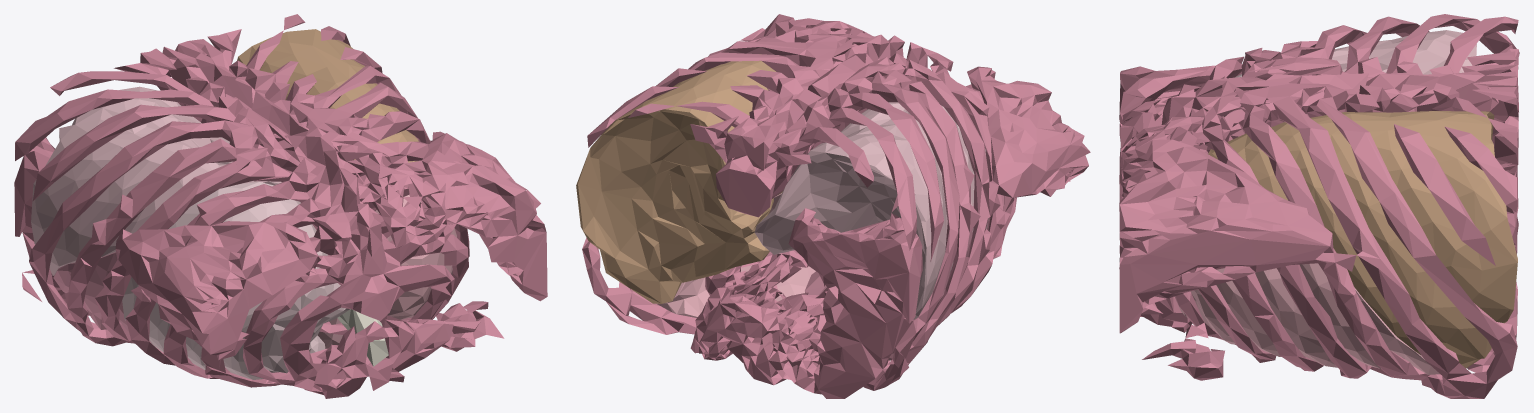
File: anatomy_vertex_colored_v2.glb
3 views of the same model, side by side, from view 1: azimuth 30°, elevation 25°; view 2: azimuth 150°, elevation 25°; view 3: azimuth 270°, elevation 25° (orthographic). The views are drawn at different scales.
Parts seen in each view (by area): view 1: part_6_vertex_colored, part_3_vertex_colored, part_5_vertex_colored, part_1_vertex_colored, part_2_vertex_colored, part_4_vertex_colored, part_0_vertex_colored; view 2: part_6_vertex_colored, part_1_vertex_colored, part_3_vertex_colored, part_2_vertex_colored, part_4_vertex_colored; view 3: part_6_vertex_colored, part_1_vertex_colored, part_2_vertex_colored, part_3_vertex_colored.
Boxes of the visible parts, x1=… form: part_6_vertex_colored: x1=14, y1=14, x2=547, y2=398; part_3_vertex_colored: x1=31, y1=86, x2=281, y2=275; part_5_vertex_colored: x1=122, y1=182, x2=349, y2=379; part_1_vertex_colored: x1=237, y1=29, x2=418, y2=162; part_2_vertex_colored: x1=317, y1=194, x2=456, y2=348; part_4_vertex_colored: x1=53, y1=252, x2=129, y2=332; part_0_vertex_colored: x1=337, y1=309, x2=388, y2=366; part_6_vertex_colored: x1=582, y1=14, x2=1090, y2=398; part_1_vertex_colored: x1=576, y1=54, x2=782, y2=303; part_3_vertex_colored: x1=754, y1=102, x2=974, y2=319; part_2_vertex_colored: x1=656, y1=193, x2=815, y2=317; part_4_vertex_colored: x1=805, y1=203, x2=973, y2=360; part_6_vertex_colored: x1=1119, y1=14, x2=1519, y2=398; part_1_vertex_colored: x1=1208, y1=111, x2=1517, y2=368; part_2_vertex_colored: x1=1175, y1=153, x2=1439, y2=374; part_3_vertex_colored: x1=1331, y1=30, x2=1497, y2=159.
Size of the model in its own units: 0.75 by 0.5246 by 0.7097.
